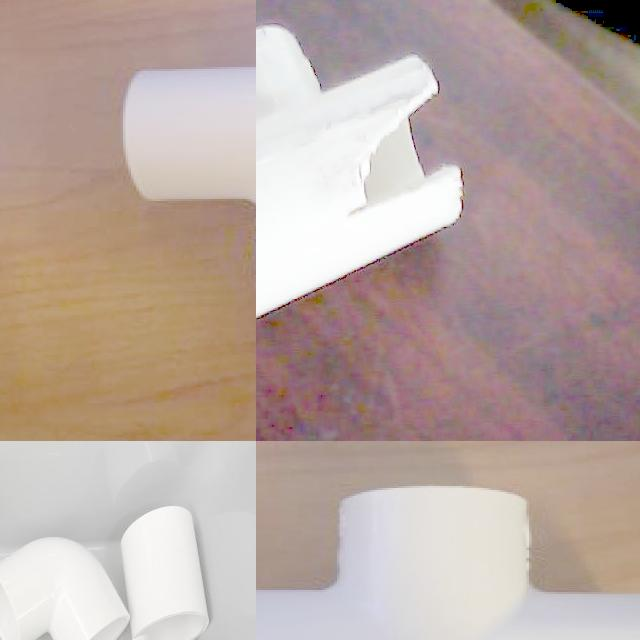Defective: (352, 73, 468, 237), (363, 73, 463, 205)
L Joint: (0, 537, 130, 640)
T Joint: (256, 27, 465, 322), (256, 487, 640, 640), (120, 66, 256, 213)
